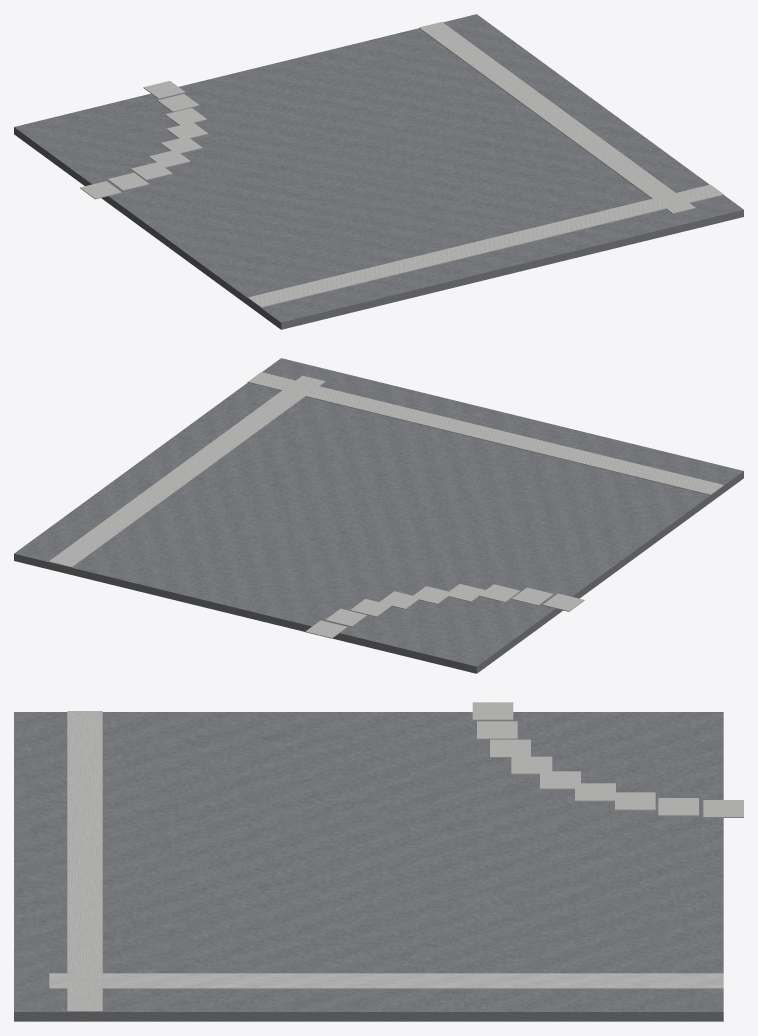
File: go-kart-track-and-pit-lane-track-surface-tile-curve-d81ca717__34332.glb
3 renders of one model, top to bottom at view 1: azimuth 30°, elevation 25°; view 2: azimuth 150°, elevation 25°; view 3: azimuth 270°, elevation 25°, orthographic. The views are drawn at different scales.
Parts seen in each view (by area): view 1: track-surface-tile-curve-tarmac, track-surface-tile-curve-concrete; view 2: track-surface-tile-curve-tarmac, track-surface-tile-curve-concrete; view 3: track-surface-tile-curve-tarmac, track-surface-tile-curve-concrete.
Part boxes in pixels (box(x1,y1,x2,y2)): track-surface-tile-curve-tarmac: box(14, 14, 743, 329); track-surface-tile-curve-concrete: box(80, 22, 723, 307); track-surface-tile-curve-tarmac: box(14, 358, 743, 673); track-surface-tile-curve-concrete: box(48, 372, 723, 638); track-surface-tile-curve-tarmac: box(14, 712, 723, 1021); track-surface-tile-curve-concrete: box(49, 702, 743, 1011).
Size of the model in its own units: 8.23 by 0.1321 by 8.23.
Materials: 2 (2 with a texture image).
